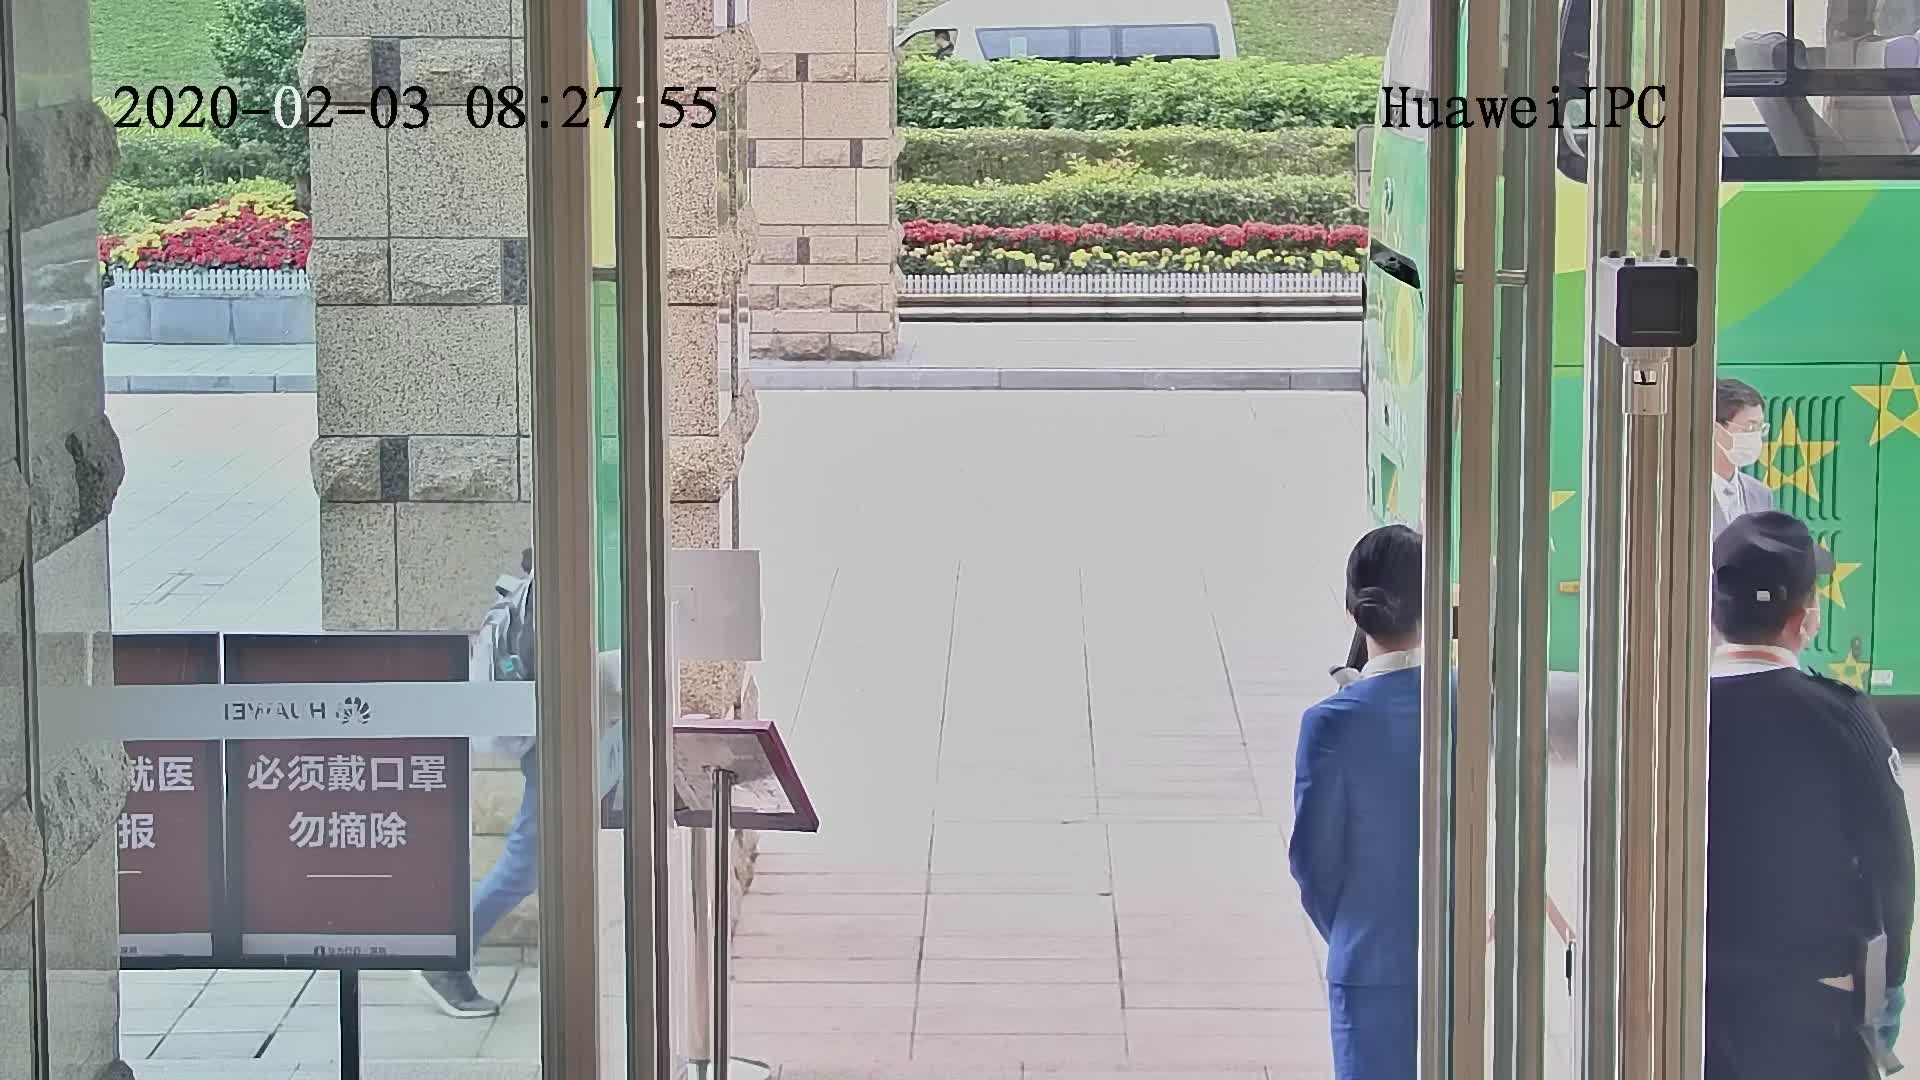face: (1727, 409, 1767, 471)
mask: (1727, 435, 1763, 475)
person: (1700, 500, 1881, 786), (1292, 519, 1430, 777), (1703, 376, 1781, 507)
